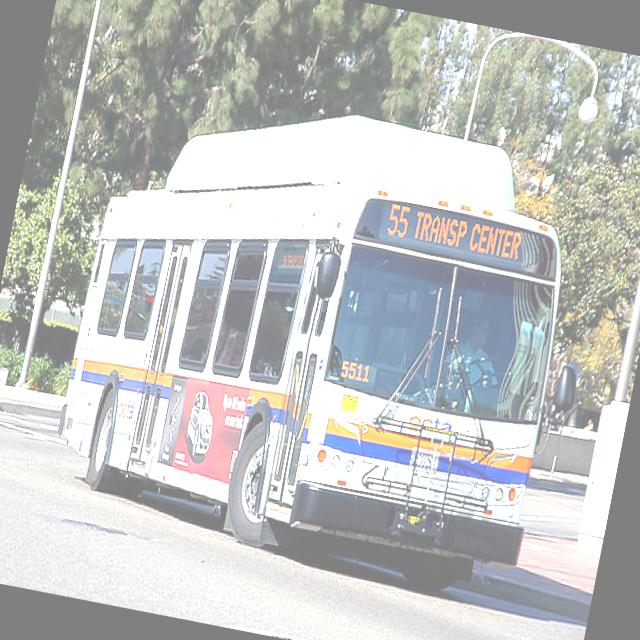Vehicle: (38, 72, 600, 614)
